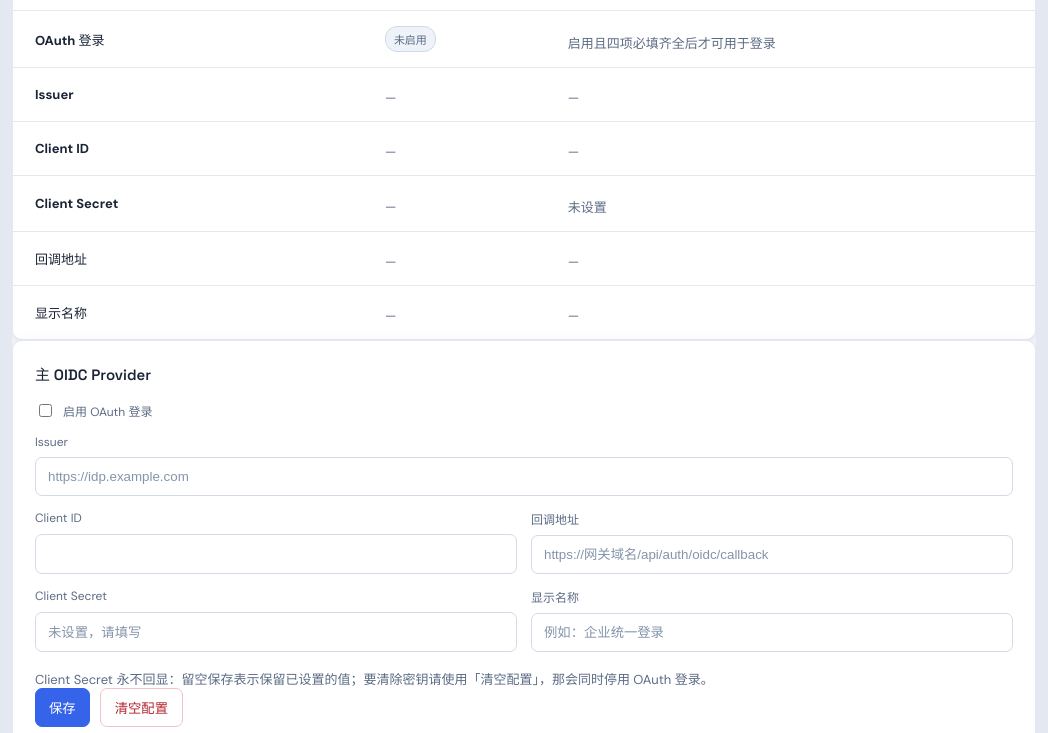
Test: 主 OIDC Provider 保存 › 非法 issuer 的后端校验文案也被本地化
The image size is (1048, 733).
(page scrolled)
Click the button "保存" at (62, 708), box [35, 688, 90, 727]
(page scrolled)
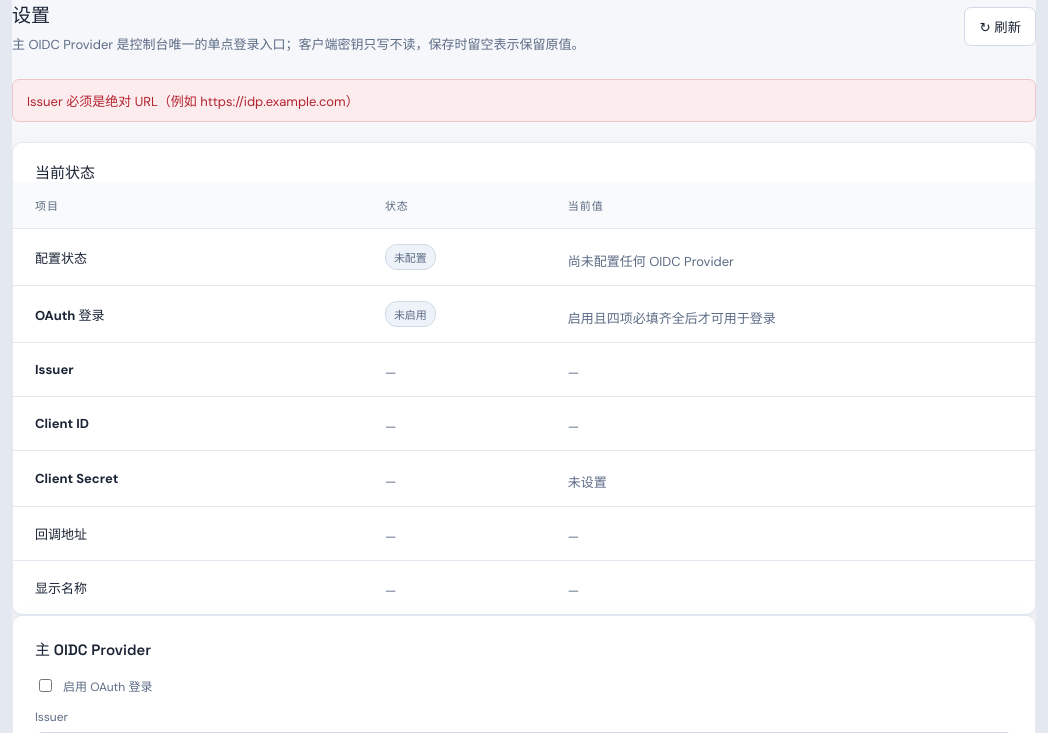
Check: the message with class "alert" shows "Issuer 必须是绝对 URL", box [27, 93, 359, 110]
